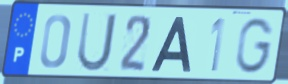0: (38, 12, 73, 70)
1: (209, 17, 226, 73)
2: (117, 13, 152, 74)
A: (149, 14, 193, 74)
G: (234, 16, 276, 76)
U: (75, 11, 119, 74)
